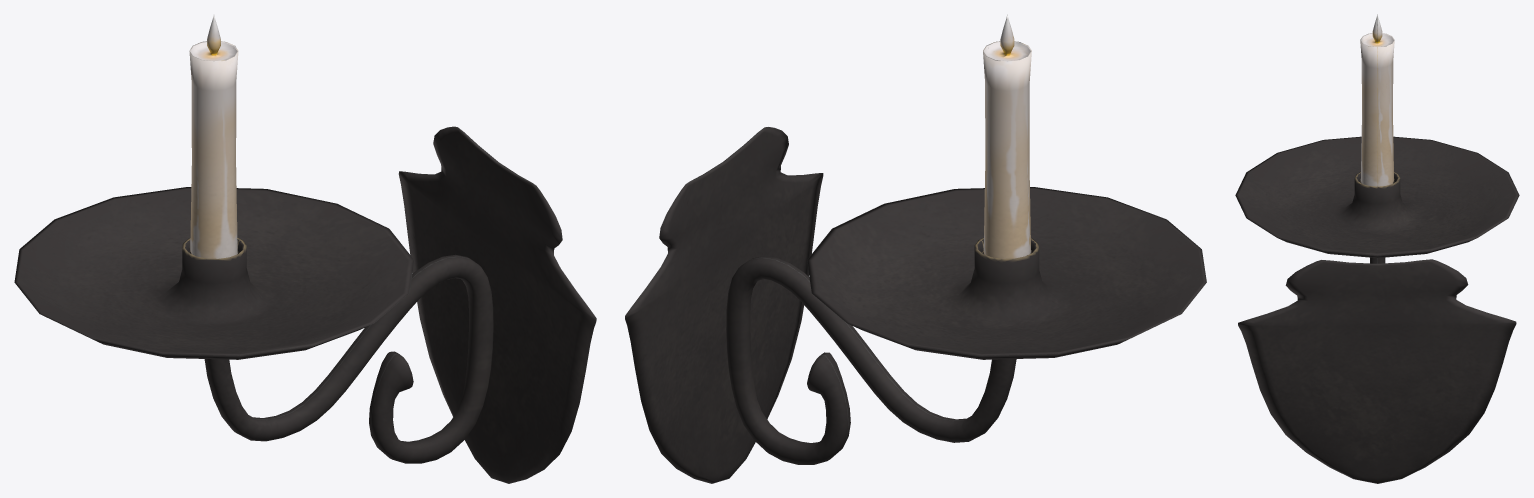
The model's file is 벽양초.fbx.
3 renders of one model, left to right at view 1: azimuth 30°, elevation 25°; view 2: azimuth 150°, elevation 25°; view 3: azimuth 270°, elevation 25°, orthographic. The views are drawn at different scales.
Visible parts, largest first — view 1: Base; view 2: Base; view 3: Base.
Part boxes in pixels (<box>): Base: <box>14,15,596,483</box>; Base: <box>625,14,1206,483</box>; Base: <box>1235,14,1519,483</box>.
Bounding box in the file's own units: 238 × 262 × 180.
